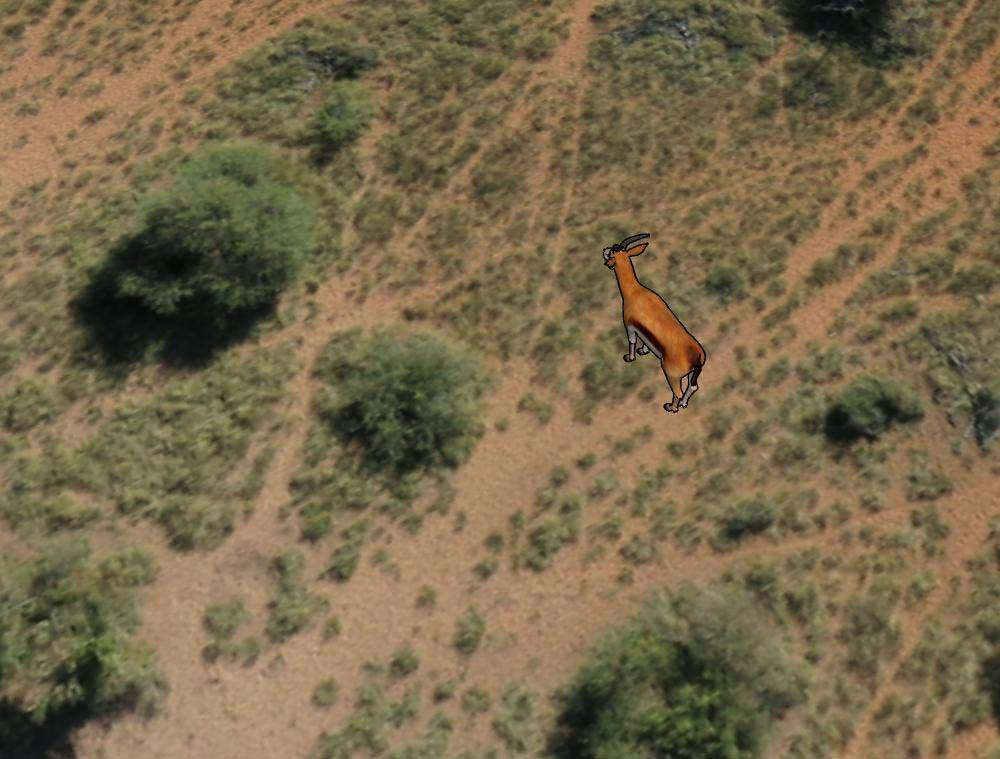springbok: (592, 231, 708, 414)
